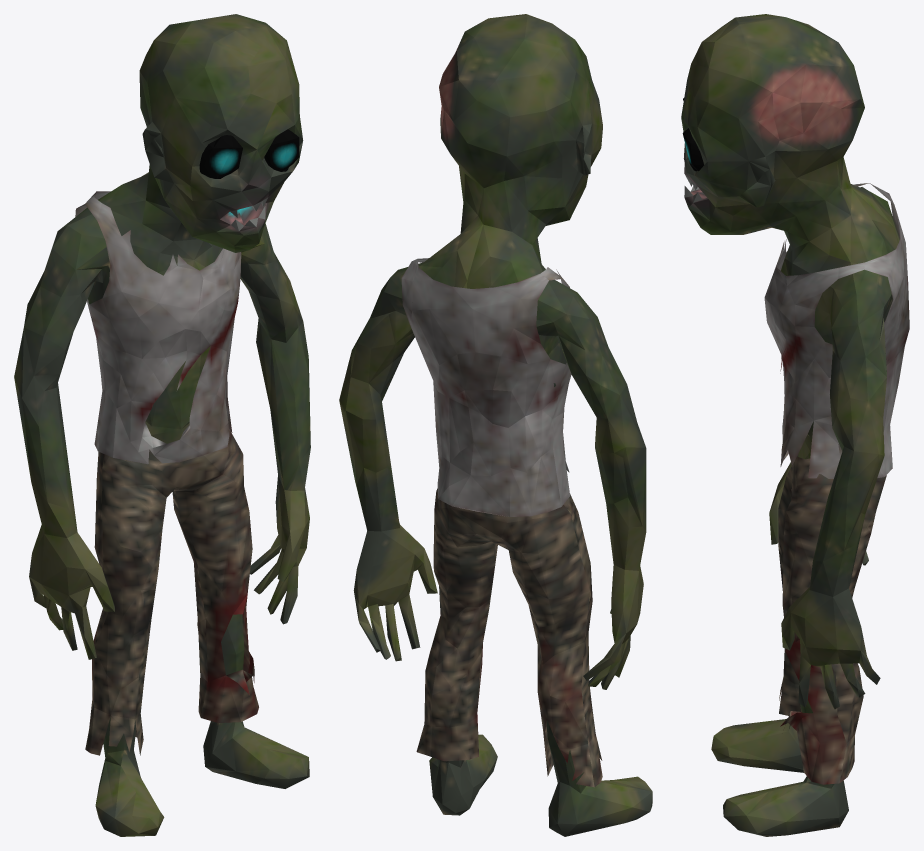
Rendered from zombie_000004.obj.
The picture shows the model from 3 angles, left to right: view 1: azimuth 30°, elevation 25°; view 2: azimuth 150°, elevation 25°; view 3: azimuth 270°, elevation 25°; orthographic projection.
Visible parts, largest first — view 1: body_Mesh.001, Object001_Mesh.002, clooth_Mesh; view 2: body_Mesh.001, clooth_Mesh, Object001_Mesh.002; view 3: body_Mesh.001, clooth_Mesh, Object001_Mesh.002.
Part boxes in pixels (x1,y1,x2,y2): body_Mesh.001: (14,14,310,836); Object001_Mesh.002: (85,430,258,755); clooth_Mesh: (75,191,241,464); body_Mesh.001: (339,14,652,836); clooth_Mesh: (401,258,571,516); Object001_Mesh.002: (416,488,602,787); body_Mesh.001: (681,14,899,836); clooth_Mesh: (764,183,909,478); Object001_Mesh.002: (778,454,886,784).
Bounding box in the file's own units: 0.1531 × 0.389 × 0.1026.
2 materials, 2 textured.
